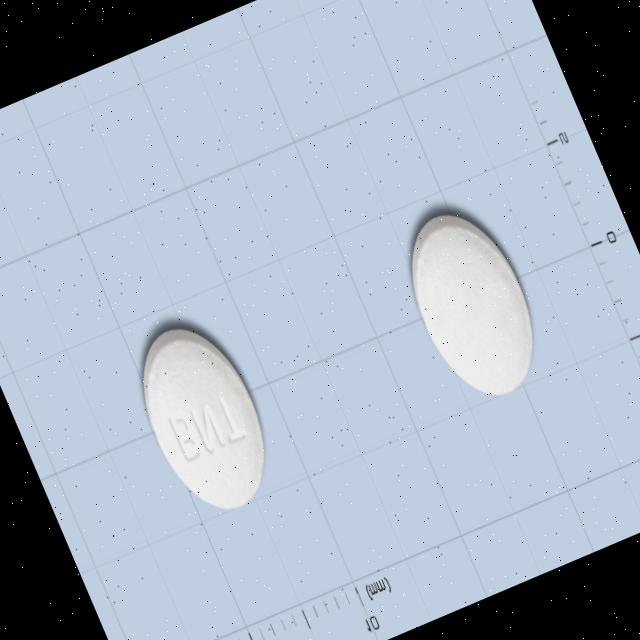Banan: (113, 302, 294, 532), (383, 188, 562, 418)
